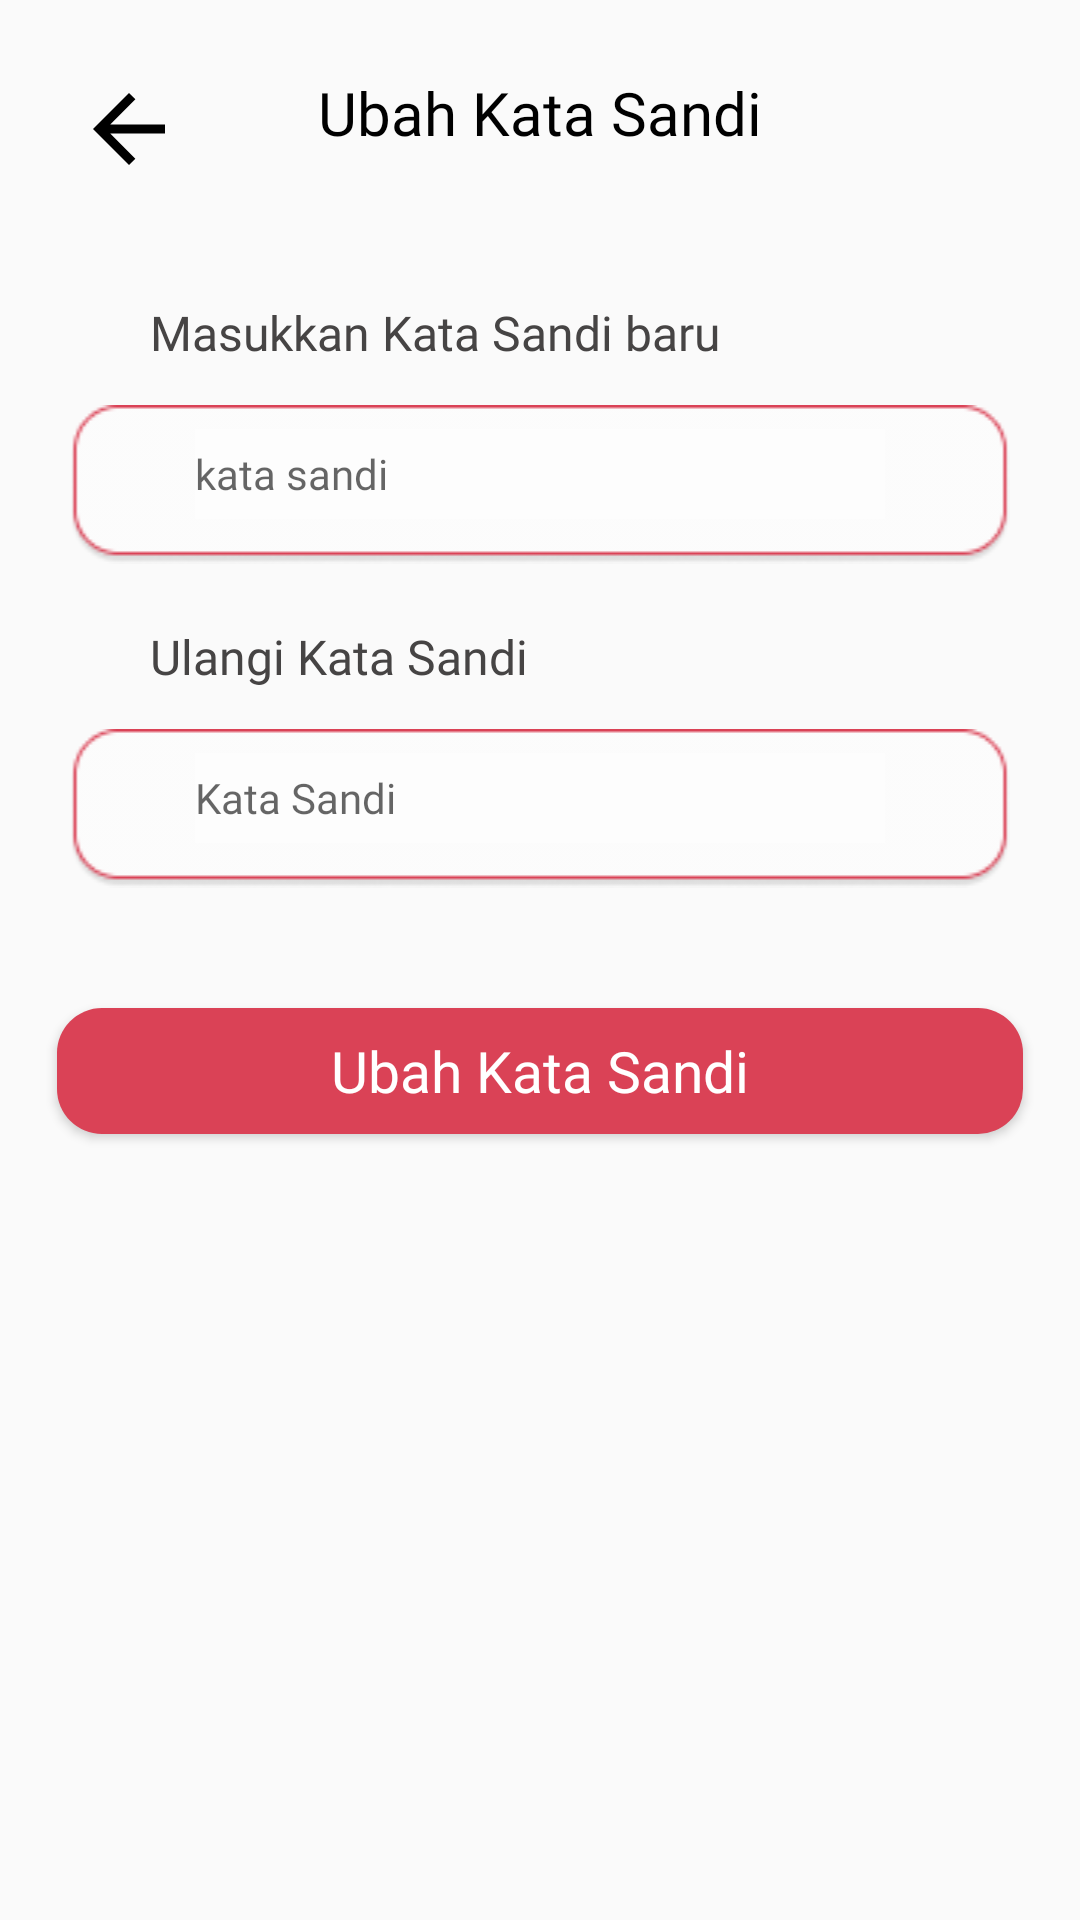

Named icons in this screenshot (1080px×1920px) and their centers, point (x, y):
back: point (129, 129)
